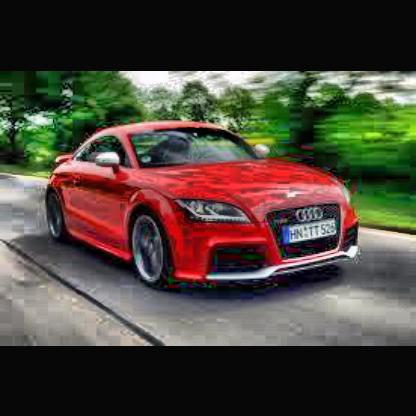Audi TT RS Coupe 2012: (44, 121, 366, 301)
